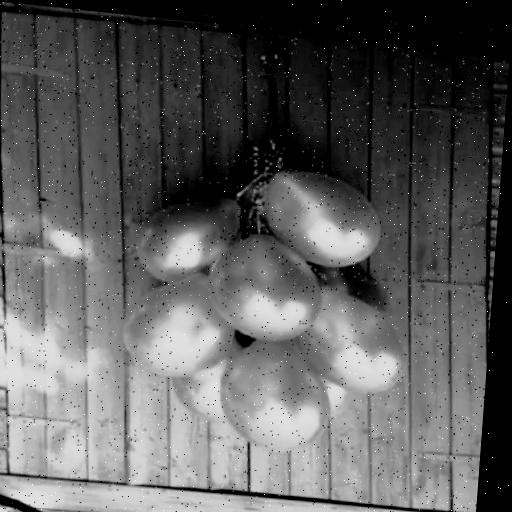balloon: (198, 326, 339, 456), (194, 220, 328, 343), (107, 263, 242, 383), (281, 275, 413, 396), (258, 159, 390, 272), (122, 176, 247, 290), (159, 329, 252, 423), (224, 141, 309, 237), (271, 331, 358, 417), (303, 255, 392, 317)
